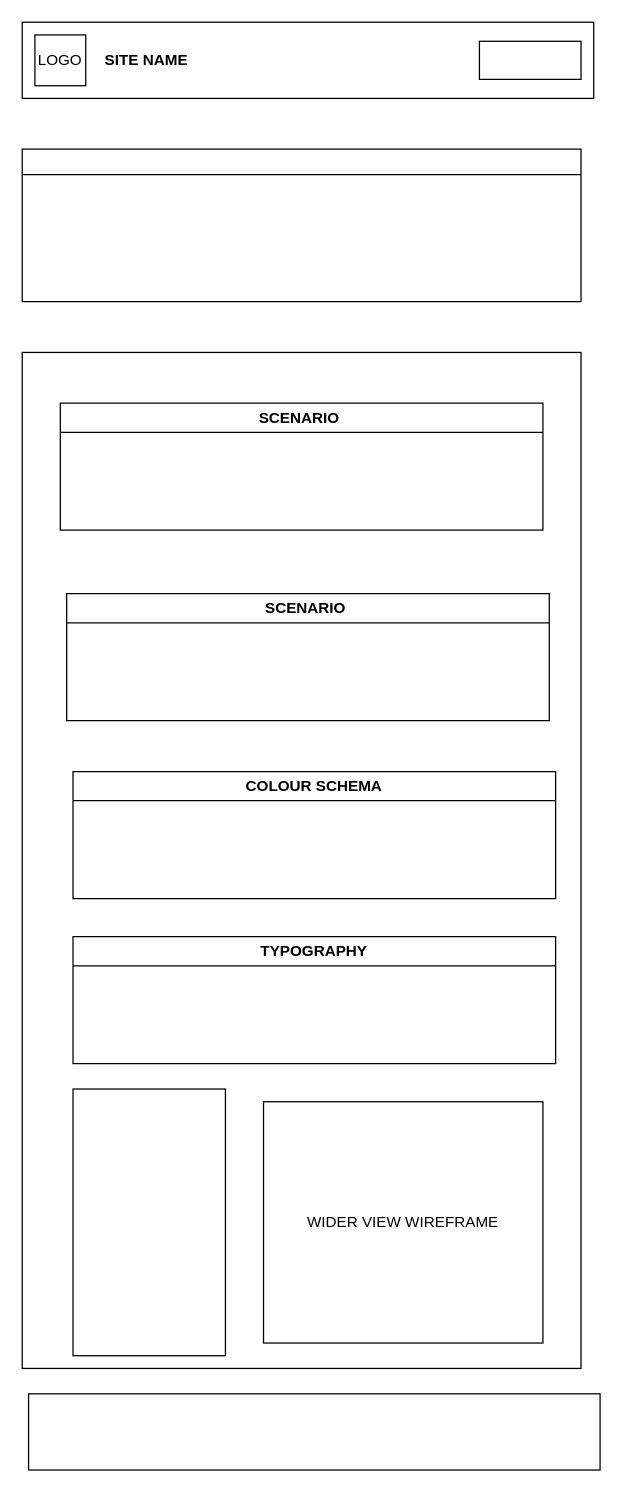
This 622x1492 diagram has some shape labels left out. Here are the shapes that lost their labels. From the top down, the centre of each, then its label:
At pixel 529 59: "MENU CONTENT".
At pixel 301 225: "SITE PURPOSE".
At pixel 148 1222: "MOBILE VIEW WIREFREAME".
At pixel 313 1431: "STANDARD FOOTER CONTENT".
